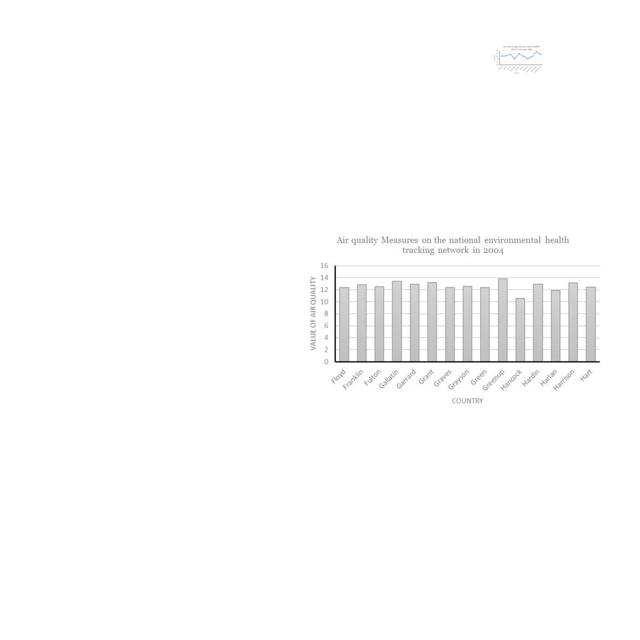Graph: (300, 231, 605, 411), (493, 45, 544, 74)
